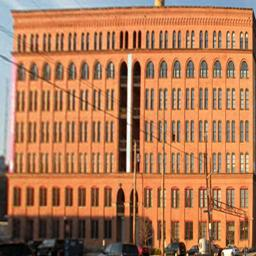building: (9, 0, 256, 247)
